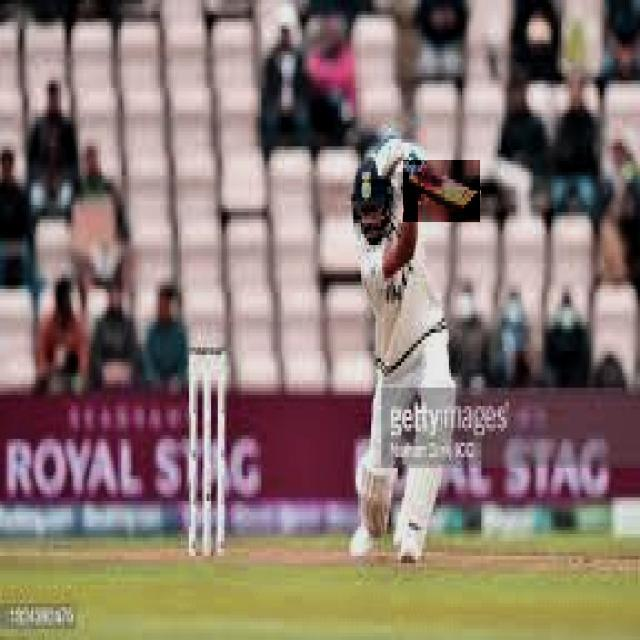bat: (402, 163, 480, 221)
